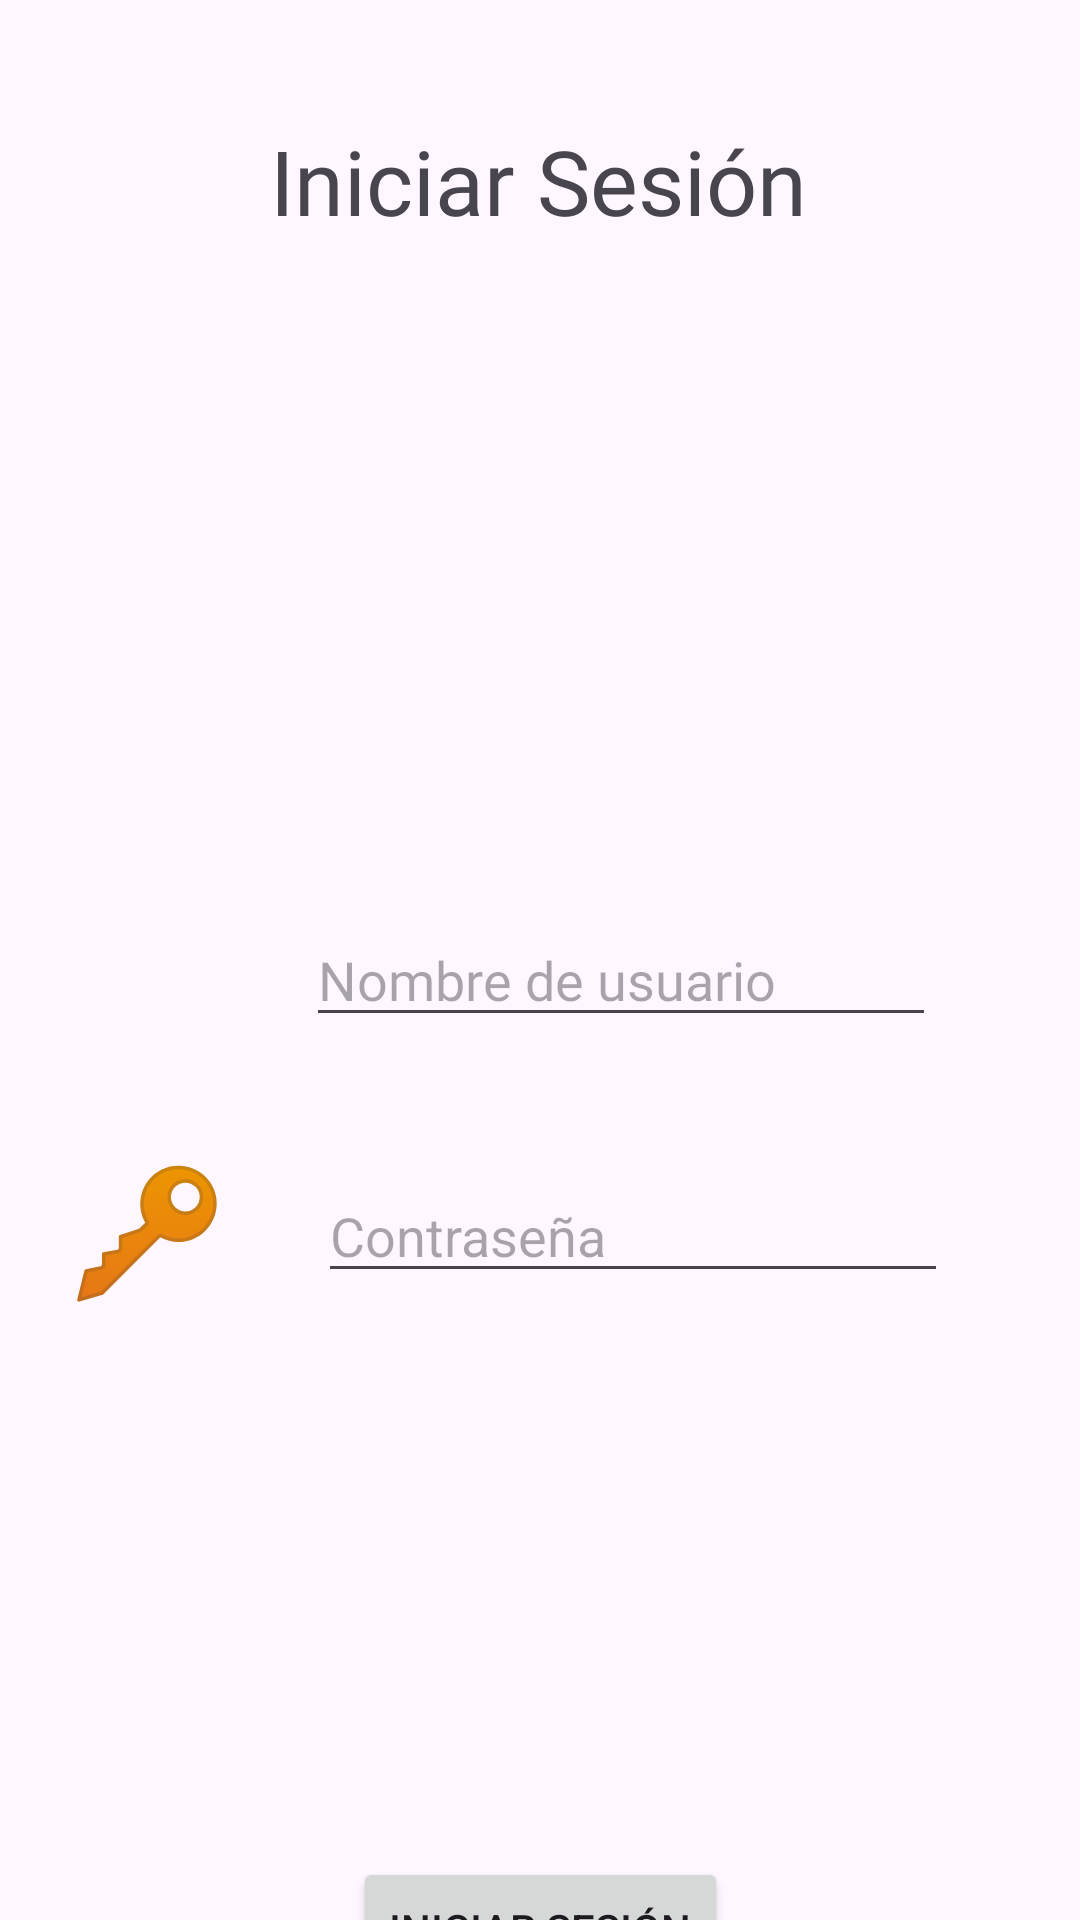

Where icons sit on this 1080w x 1920h app screen, as (x1, y1, x2, y2):
key: (77, 1165, 217, 1302)
